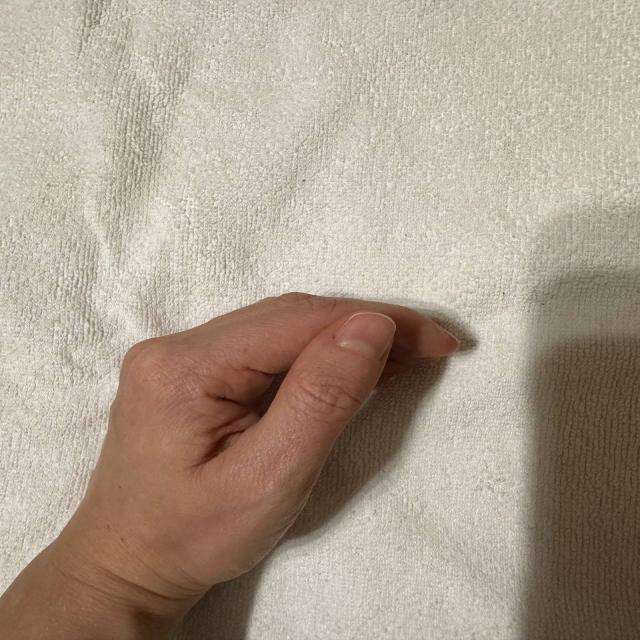f: (36, 265, 473, 583)
